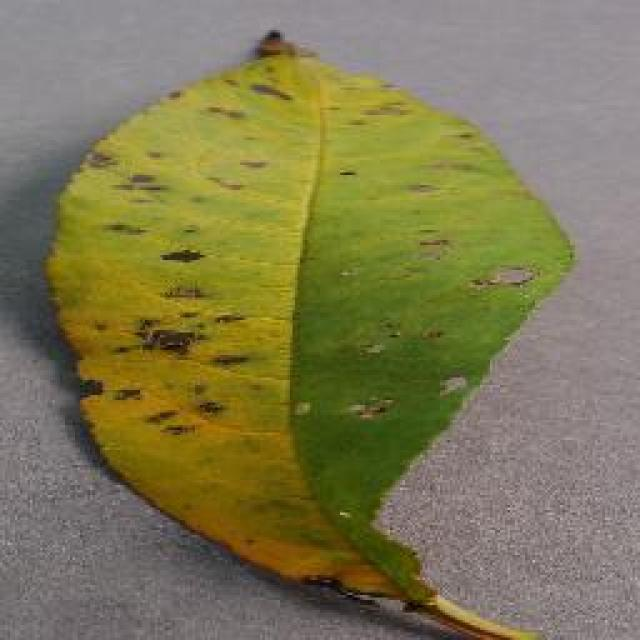Peach_Bacterial_Spot: (128, 95, 475, 488)
